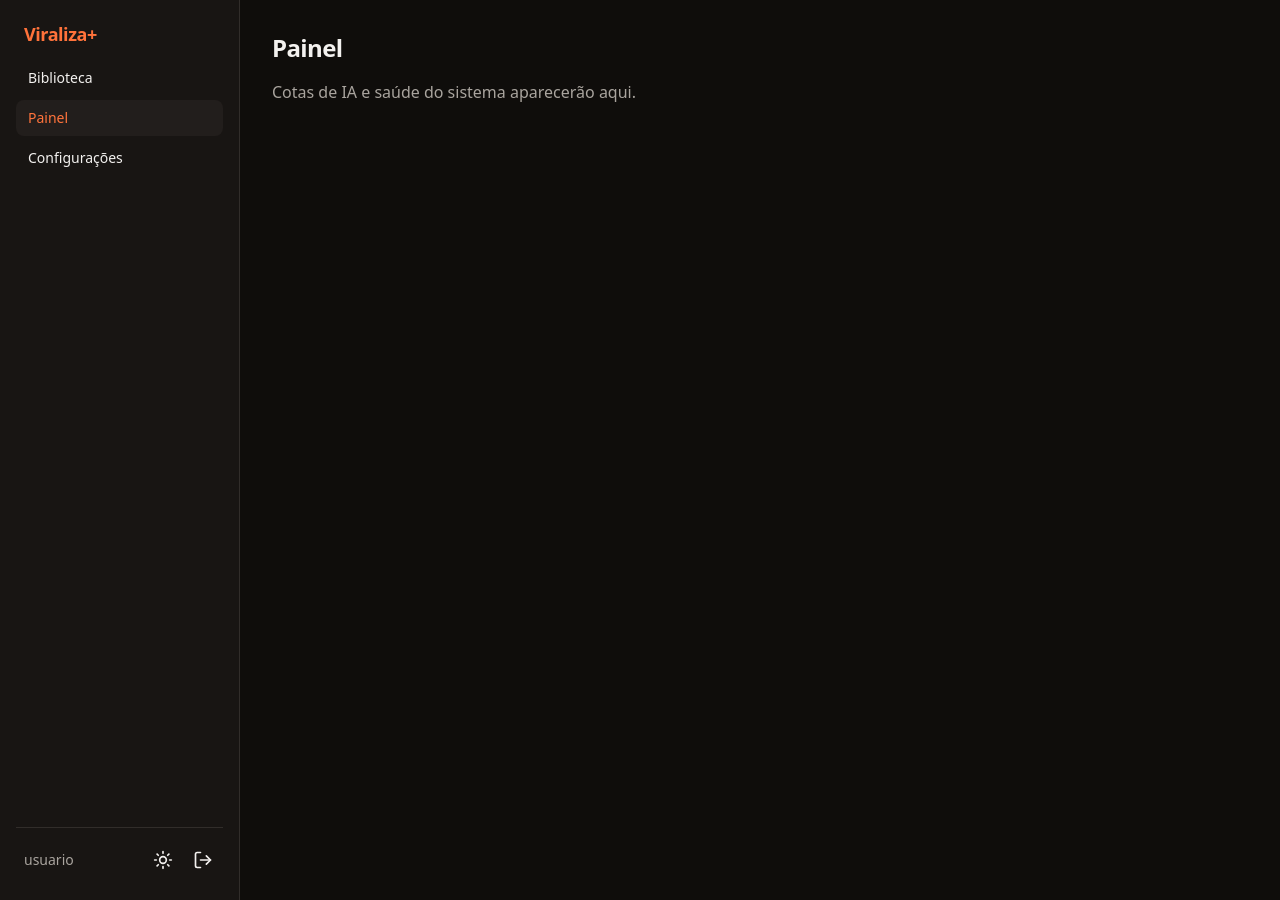
Scenario: login e proteção de rotas › logout faz POST e volta ao login
Step 1. Click the button named "Sair" → (203, 860), box [183,840,223,880]
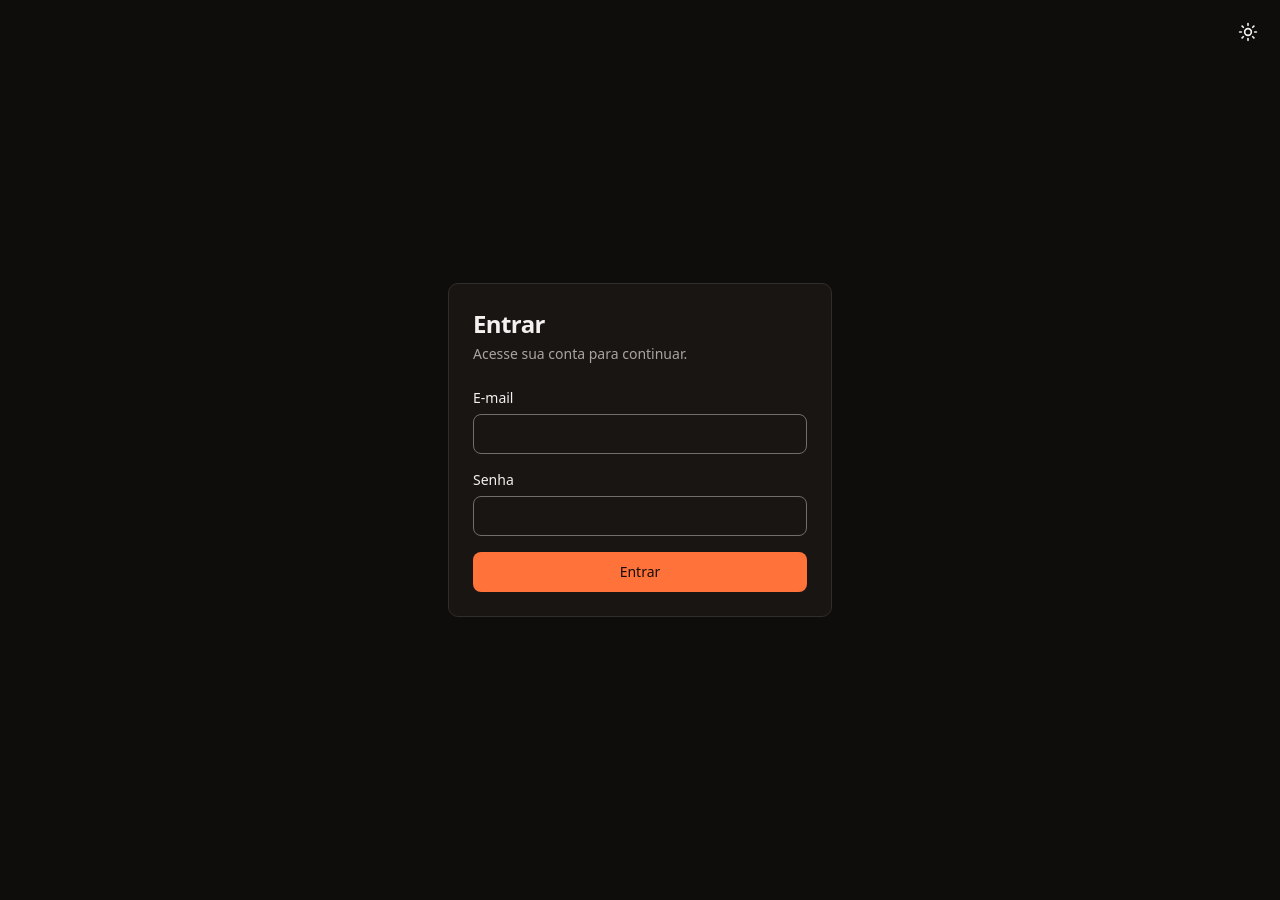
Now the button "Entrar" is shown, box [473,552,807,592]
